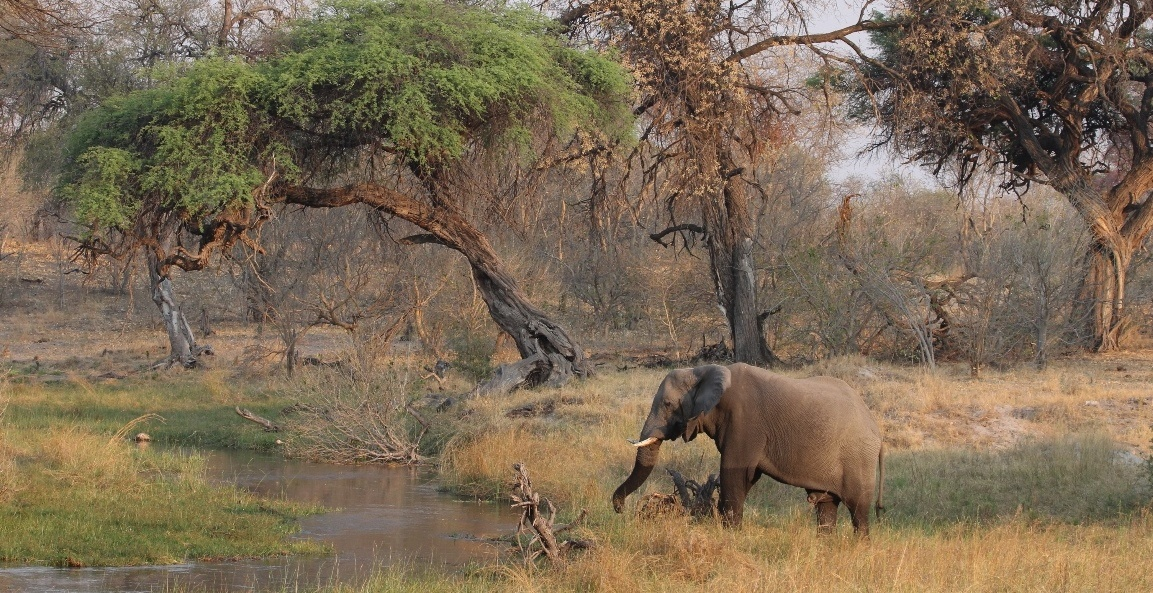elephant: (748, 449, 1029, 593)
